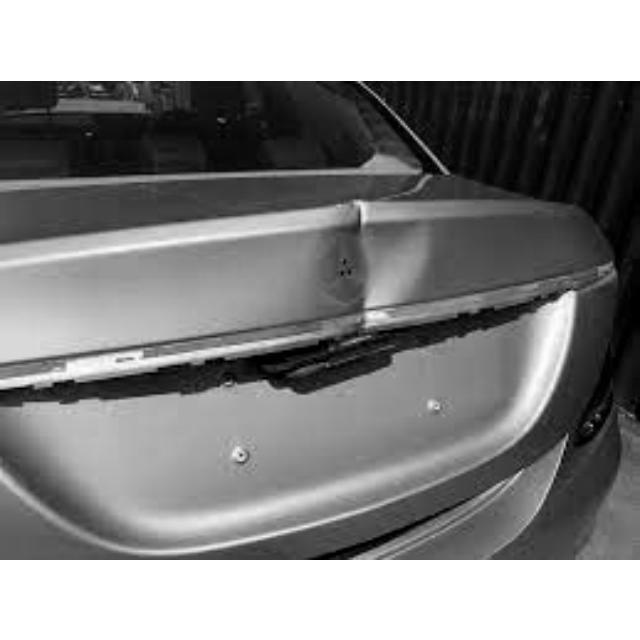boot-dent: (289, 191, 440, 378)
